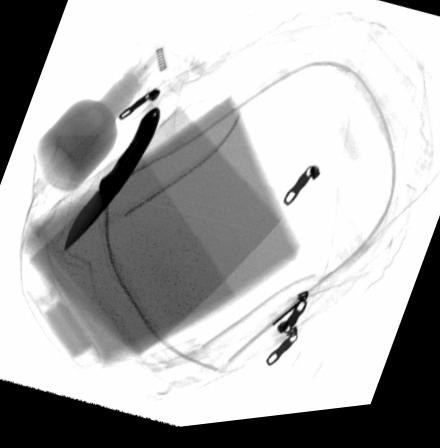Knife: (62, 109, 162, 256)
